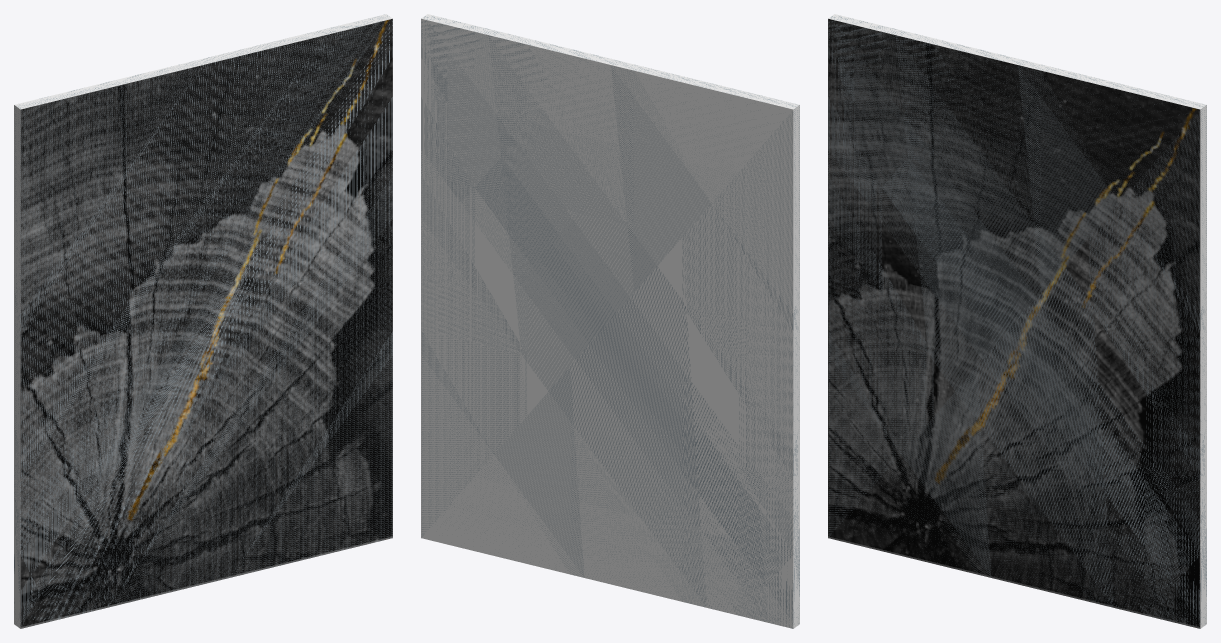
Rendered from art23.dae.
3 renders of one model, left to right at view 1: azimuth 30°, elevation 25°; view 2: azimuth 150°, elevation 25°; view 3: azimuth 330°, elevation 25°, orthographic.
Visible parts, largest first — view 1: group_0 (×2); view 2: group_0; view 3: group_0 (×2).
Boxes of the visible parts, x1,y1,x2,y2 form: group_0 (×2): (14,14,392,628); group_0: (421,14,799,628); group_0 (×2): (828,14,1206,628).
Bounding box in the file's own units: 23.62 × 0.7087 × 31.5.
Materials: 3 (1 with a texture image).
